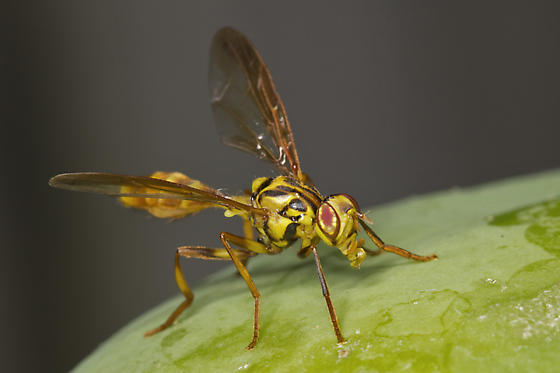Fruit fly: (86, 37, 421, 351)
